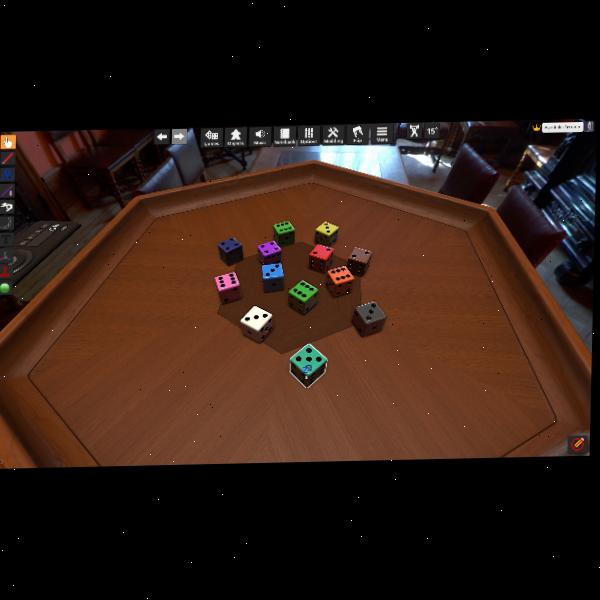d6: (289, 343, 326, 387), (239, 305, 274, 343), (352, 300, 386, 337), (325, 265, 354, 298), (287, 280, 315, 314), (215, 271, 242, 304), (346, 246, 372, 278), (217, 236, 244, 266), (308, 242, 334, 273), (261, 262, 285, 292), (257, 239, 282, 265), (315, 221, 338, 248), (272, 221, 295, 246)
